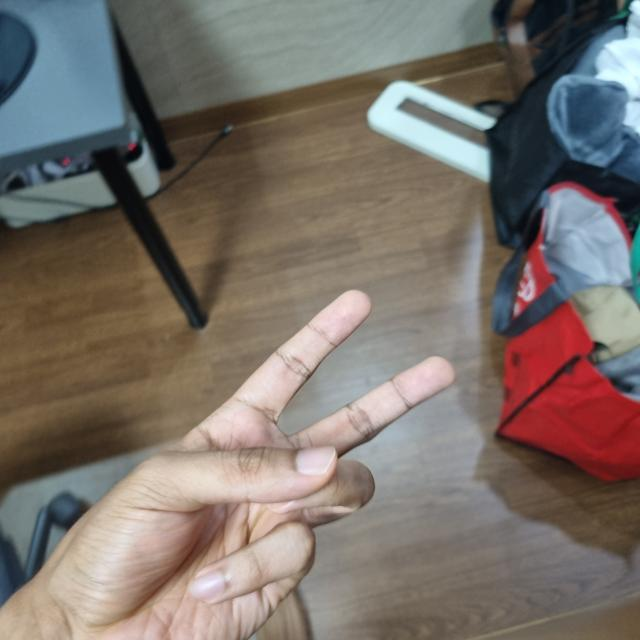Scissors: (7, 288, 455, 640)
